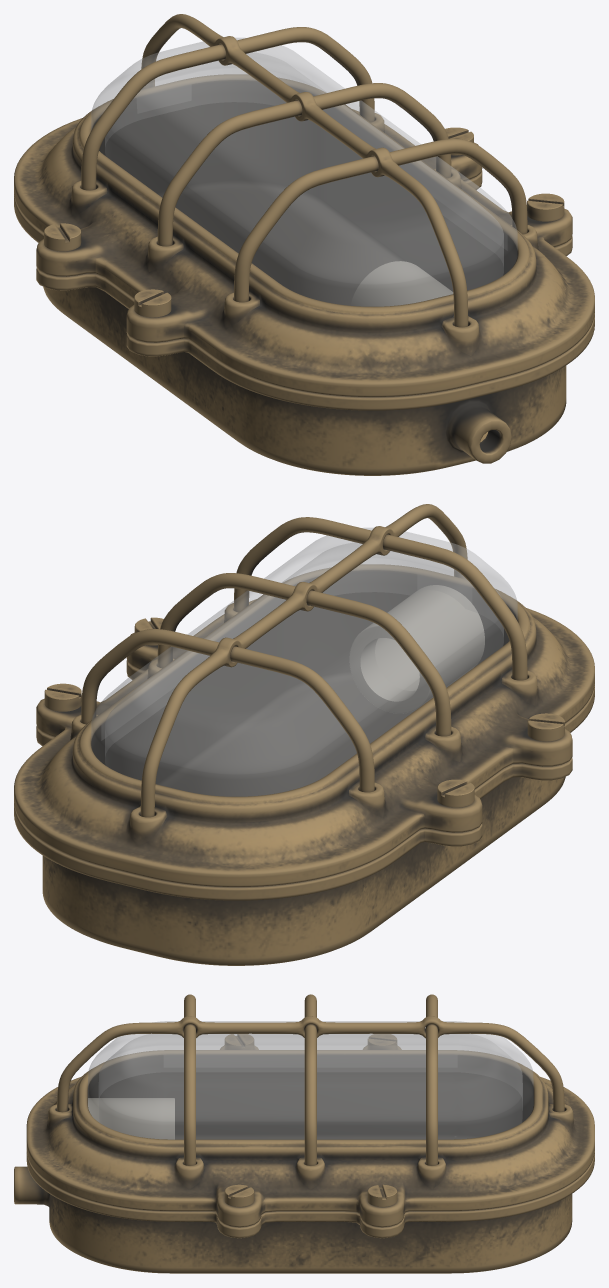
The model's file is wall_lights.glb.
3 views of the same model, one above another, from view 1: azimuth 30°, elevation 25°; view 2: azimuth 150°, elevation 25°; view 3: azimuth 270°, elevation 25° (orthographic). The views are drawn at different scales.
Visible parts, largest first — view 1: Wall_lights2_obj; view 2: Wall_lights2_obj; view 3: Wall_lights2_obj.
Boxes of the visible parts, left/top/right/bottom form: Wall_lights2_obj: left=14, top=14, right=594, bottom=475; Wall_lights2_obj: left=14, top=504, right=594, bottom=965; Wall_lights2_obj: left=14, top=994, right=594, bottom=1273.
Bounding box in the file's own units: 5.31 × 3.11 × 7.68.
2 materials, 2 textured.
